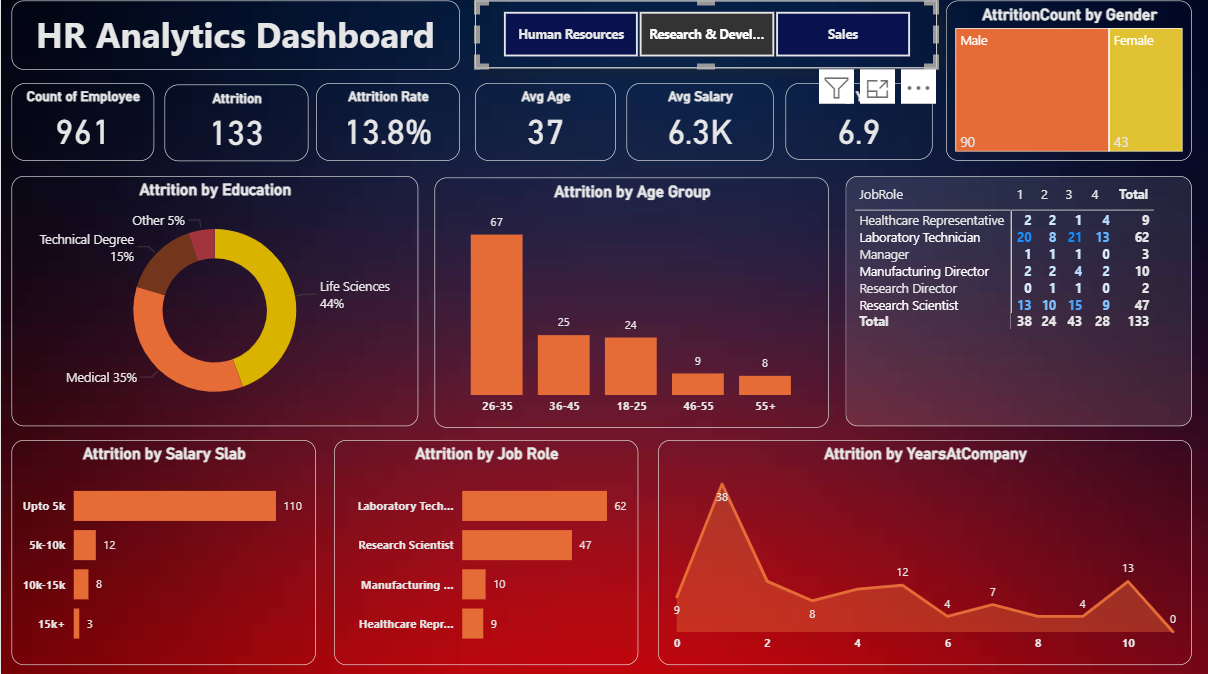

Layout of this report page (visuals, bound fields, positions):
{"tool":"powerbi","page":{"name":"Page 1","canvas":[1280,720],"ordinal":0},"visuals":[{"type":"card","title":"Count of Employee","fields":{"Values":["CountNonNull(HR_Analytics.EmpID)"]},"box":[11.1,92.3,151.1,82.7],"z":0},{"type":"card","title":"Attrition","fields":{"Values":["Sum(HR_Analytics.AttritionCount)"]},"box":[173.4,93.8,152.7,81.1],"z":1000},{"type":"card","title":"Attrition Rate","fields":{"Values":["HR_Analytics.AttritionRate"]},"box":[334,92.3,152.7,82.7],"z":2000},{"type":"card","title":"Avg Age","fields":{"Values":["Avg(HR_Analytics.Age)"]},"box":[502.6,92.3,149.5,82.7],"z":3000},{"type":"card","title":"Avg Salary","fields":{"Values":["Avg(HR_Analytics.MonthlyIncome)"]},"box":[663.3,92.3,155.9,82.7],"z":4000},{"type":"card","title":"Avg Years","fields":{"Values":["Avg(HR_Analytics.YearsAtCompany)"]},"box":[831.9,92.3,155.9,81.1],"z":5000},{"type":"donutChart","title":"Attrition by Education","fields":{"Category":["HR_Analytics.EducationField"],"Y":["Sum(HR_Analytics.AttritionCount)"]},"box":[11.1,190.9,431.1,265.6],"z":6000},{"type":"columnChart","title":"Attrition by Age Group","fields":{"Category":["HR_Analytics.AgeGroup"],"Y":["Sum(HR_Analytics.AttritionCount)"]},"box":[459.7,192.5,418.3,265.6],"z":7000},{"type":"pivotTable","fields":{"Rows":["HR_Analytics.JobRole"],"Columns":["HR_Analytics.JobSatisfaction"],"Values":["Sum(HR_Analytics.AttritionCount)"]},"box":[895.5,190.9,367.4,265.6],"z":8000},{"type":"barChart","title":"Attrition by Salary Slab","fields":{"Category":["HR_Analytics.SalarySlab"],"Y":["Sum(HR_Analytics.AttritionCount)"]},"box":[11.1,470.8,322.9,238.6],"z":9000},{"type":"barChart","title":"Attrition by Job Role","fields":{"Y":["Sum(HR_Analytics.AttritionCount)"],"Category":["HR_Analytics.JobRole"]},"box":[353.1,470.8,322.9,238.6],"z":10000},{"type":"areaChart","title":"Attrition by YearsAtCompany","fields":{"Y":["Sum(HR_Analytics.AttritionCount)"],"Category":["HR_Analytics.YearsAtCompany"]},"box":[696.7,470.8,566.3,238.6],"z":11000},{"type":"treemap","title":" AttritionCount by Gender","fields":{"Group":["HR_Analytics.Gender"],"Values":["Sum(HR_Analytics.AttritionCount)"]},"box":[1002.1,4.8,260.9,170.2],"z":12000},{"type":"slicer","title":"Department","fields":{"Values":["HR_Analytics.Department"]},"box":[502.6,4.8,489.9,71.6],"z":13000},{"type":"textbox","box":[11.1,4.8,475.6,73.2],"z":14000}]}

Visuals, with their boxes in screenshot pixels (x1, y1, x2, y2), scaled from the page's 1280x720 canvas onto the 1208x674 screenshot:
"Count of Employee" card: Rect(10, 86, 153, 164)
"Attrition" card: Rect(164, 88, 308, 164)
"Attrition Rate" card: Rect(315, 86, 459, 164)
"Avg Age" card: Rect(474, 86, 615, 164)
"Avg Salary" card: Rect(626, 86, 773, 164)
"Avg Years" card: Rect(785, 86, 932, 162)
"Attrition by Education" donutChart: Rect(10, 179, 417, 427)
"Attrition by Age Group" columnChart: Rect(434, 180, 829, 429)
pivotTable - HR_Analytics.JobRole x HR_Analytics.JobSatisfaction: Rect(845, 179, 1192, 427)
"Attrition by Salary Slab" barChart: Rect(10, 441, 315, 664)
"Attrition by Job Role" barChart: Rect(333, 441, 638, 664)
"Attrition by YearsAtCompany" areaChart: Rect(658, 441, 1192, 664)
" AttritionCount by Gender" treemap: Rect(946, 4, 1192, 164)
"Department" slicer: Rect(474, 4, 937, 72)
textbox: Rect(10, 4, 459, 73)
